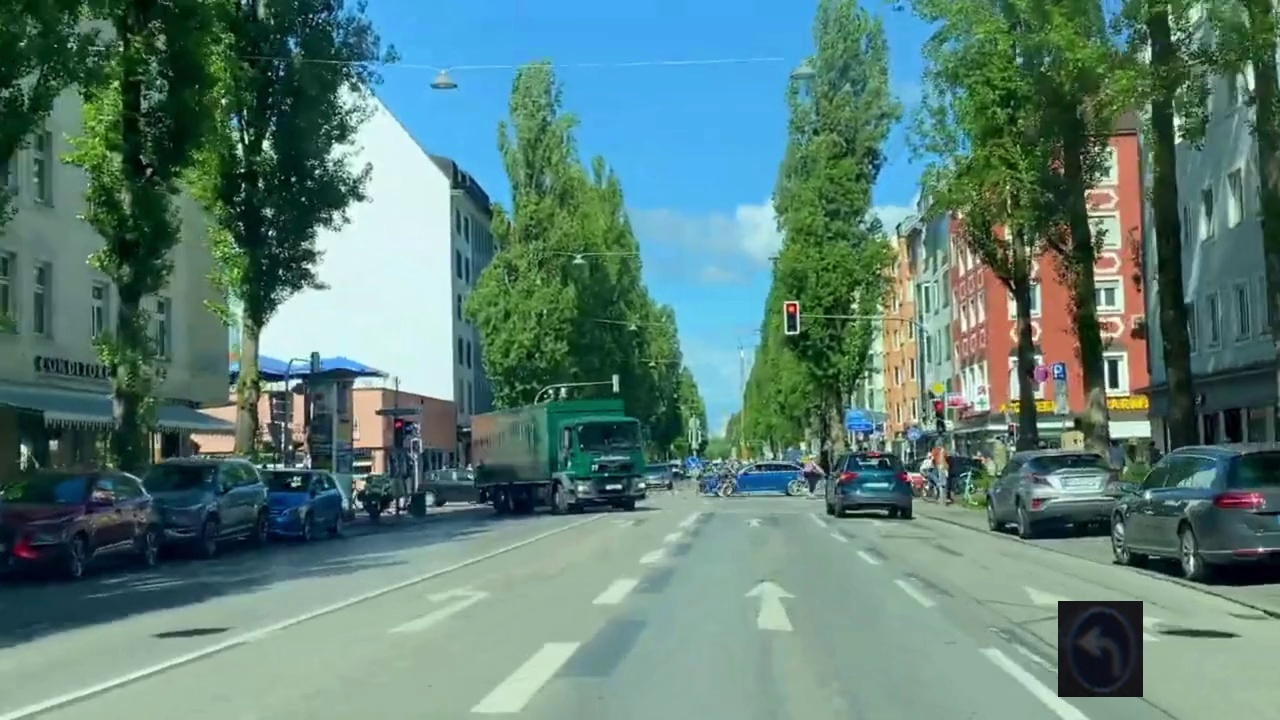Turn left: (1058, 601, 1143, 697)
